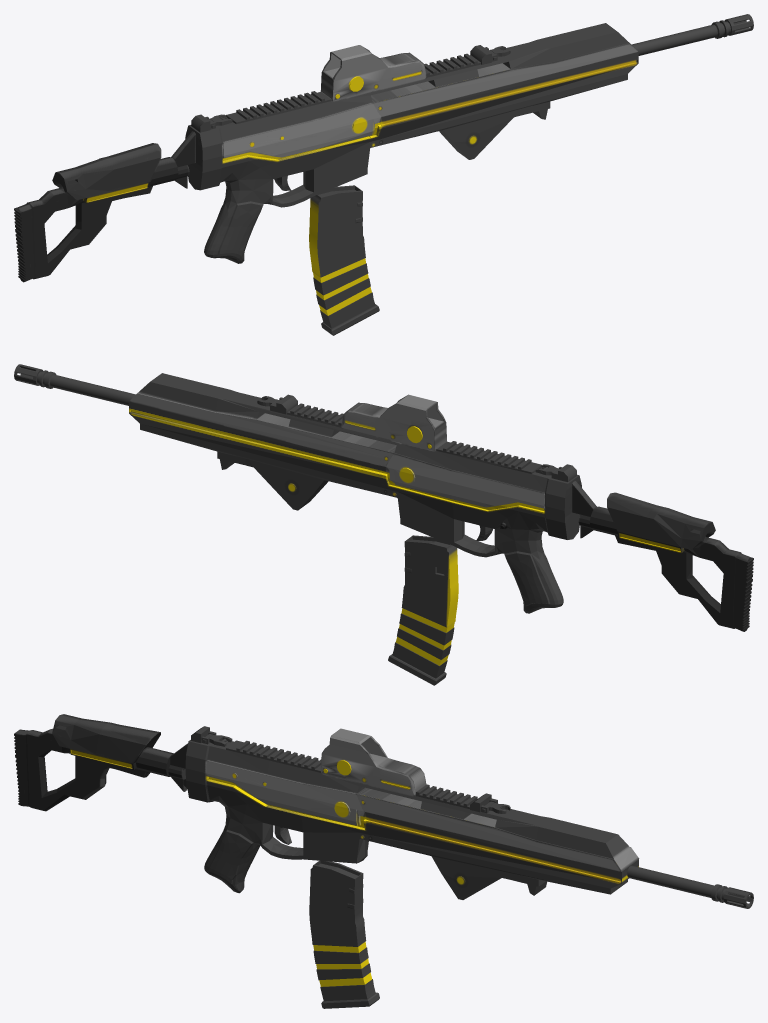
Rendered from Gun_Assault_Rifle_3_4_2.FBX.
3 renders of one model, top to bottom at view 1: azimuth 30°, elevation 25°; view 2: azimuth 150°, elevation 25°; view 3: azimuth 330°, elevation 25°, orthographic.
Visible parts, largest first — view 1: gun_object, mag_object, Gun_effect_parts, Mag_effect_parts; view 2: gun_object, mag_object, Gun_effect_parts, Mag_effect_parts; view 3: gun_object, mag_object, Gun_effect_parts, Mag_effect_parts.
Boxes of the visible parts, bbox=[...] form: gun_object: bbox=[14, 14, 753, 282]; mag_object: bbox=[310, 185, 379, 335]; Gun_effect_parts: bbox=[87, 60, 636, 201]; Mag_effect_parts: bbox=[309, 202, 371, 315]; gun_object: bbox=[14, 364, 753, 631]; mag_object: bbox=[388, 535, 457, 685]; Gun_effect_parts: bbox=[131, 410, 680, 551]; Mag_effect_parts: bbox=[395, 552, 458, 665]; gun_object: bbox=[14, 714, 753, 908]; mag_object: bbox=[309, 860, 379, 1008]; Gun_effect_parts: bbox=[71, 750, 629, 885]; Mag_effect_parts: bbox=[313, 941, 371, 986].
Size of the model in its own units: 1.14 by 0.4107 by 0.0518.
